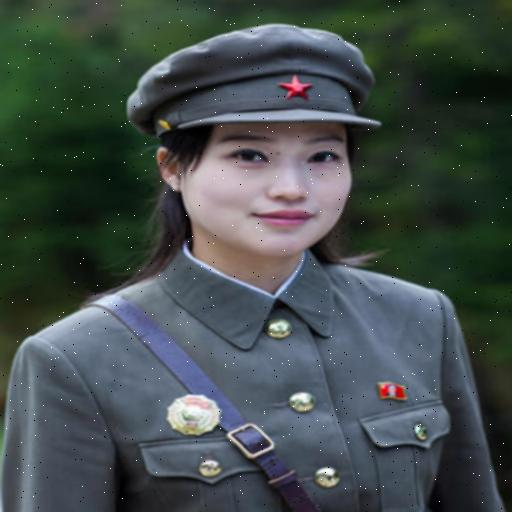north army: (57, 14, 511, 512)
